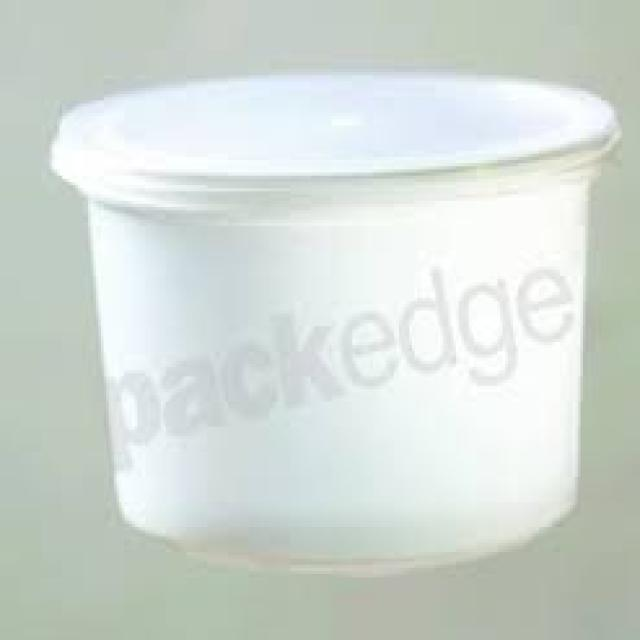disposable: (46, 59, 620, 591)
